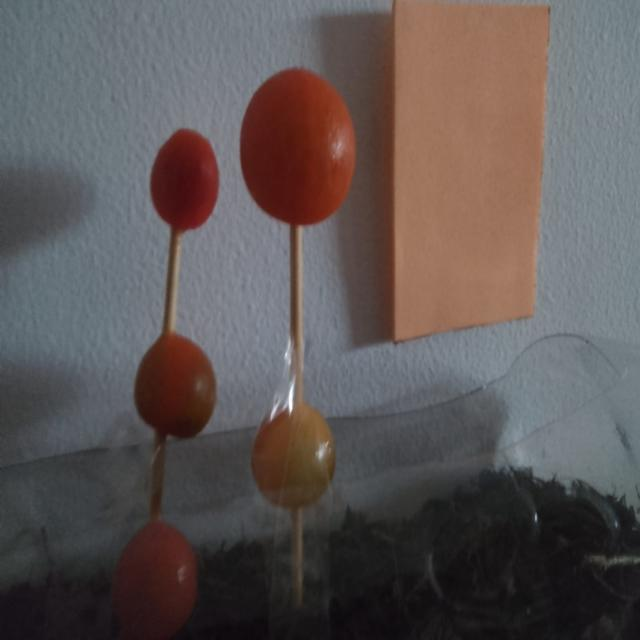card: (391, 0, 550, 341), (391, 0, 549, 341)
fruit_maturation: (251, 402, 335, 509)
fully_grown: (241, 68, 355, 225), (112, 520, 197, 639), (134, 333, 216, 438), (150, 130, 218, 230)
